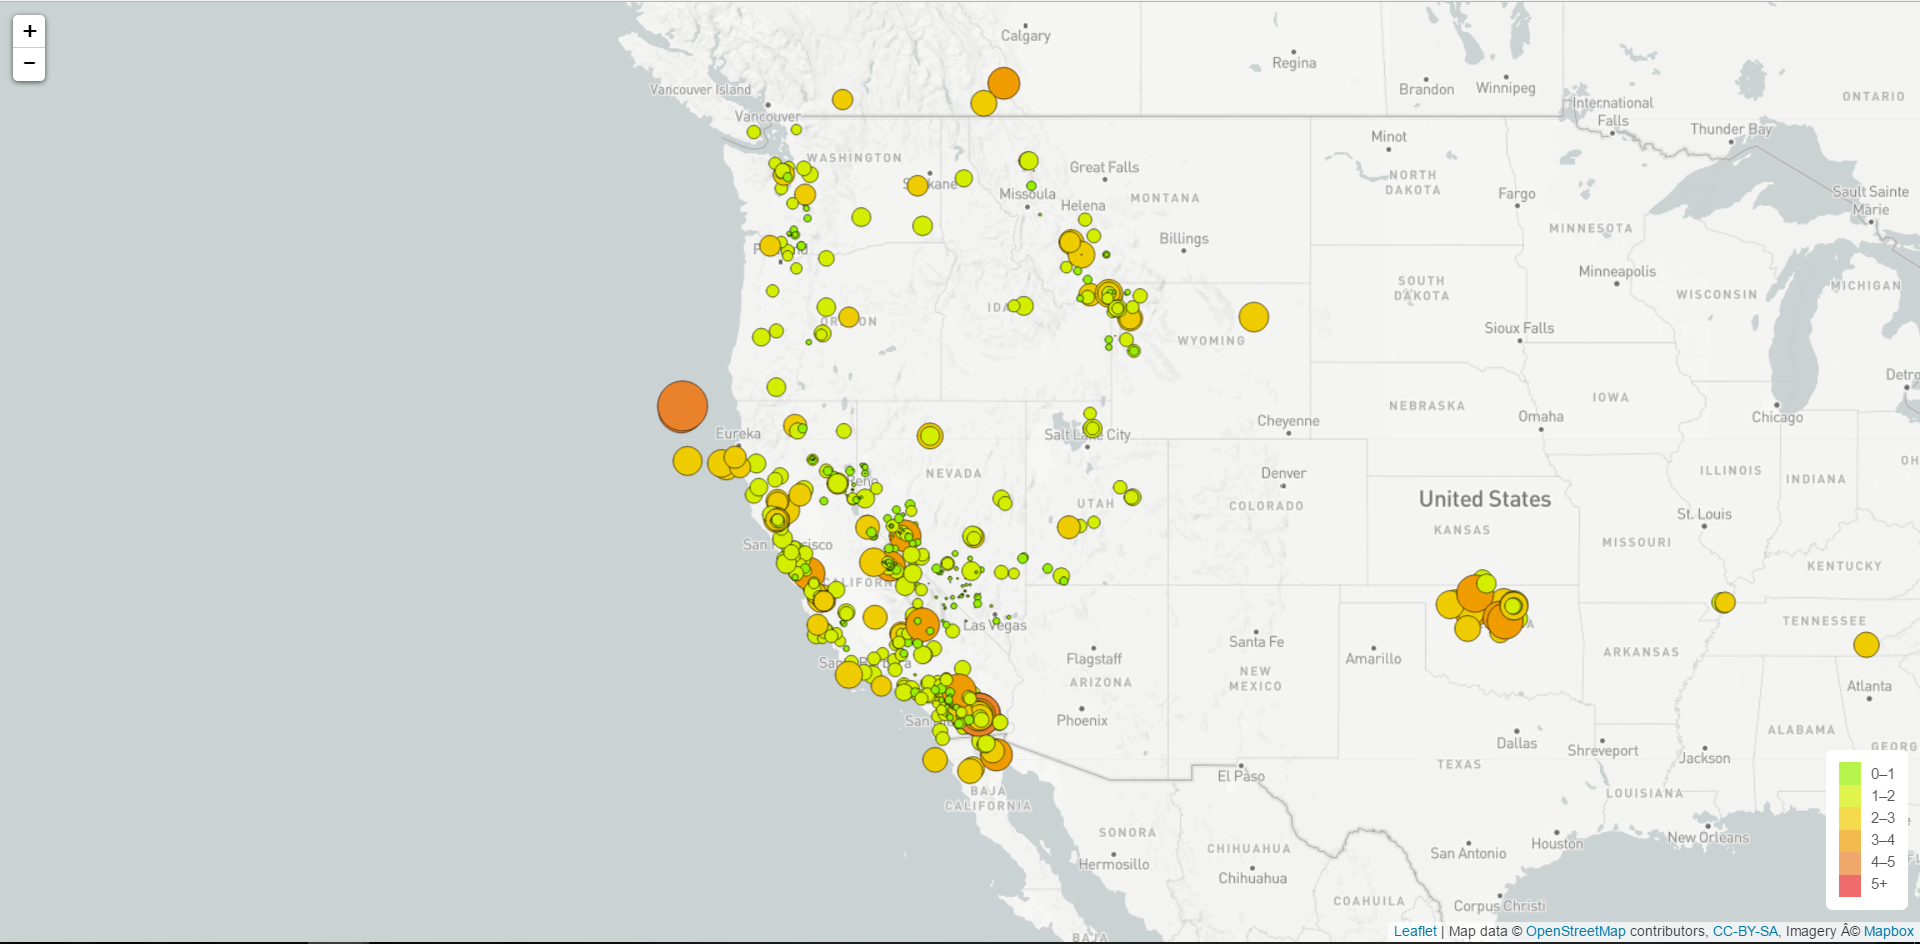

Layout of this report page (visuals, bound fields, positions):
{"tool":"tableau","page":{"name":"Dashboard 1","canvas":[1000,800],"ordinal":0},"visuals":[{"type":"worksheet","title":"Popular stations over the past year","mark":"Automatic","rows":["start station latitude"],"cols":["start station longitude"],"box":[8,8,824,784]},{"type":"legend","title":"Popular stations over the past year","param":"[federated.03d1nfi16vyxix134ivjx1o83i7c].[cnt:Number of Records:qk]","box":[832,8,160,65]},{"type":"legend","title":"Popular stations over the past year","param":"[federated.03d1nfi16vyxix134ivjx1o83i7c].[cnt:Number of Records:qk]","box":[832,73,160,126]},{"type":"currpage","title":"Popular stations over the past year","box":[832,199,160,110]}]}

Visuals, with their boxes on the page's 1000x800 design canvas (x1, y1, x2, y2). These are canvas units, not pixel positions in the 1920x944 screenshot, which may show the page scaled, cropped or inside an application window:
"Popular stations over the past year" worksheet: {"x1": 8, "y1": 8, "x2": 832, "y2": 792}
"Popular stations over the past year" legend: {"x1": 832, "y1": 8, "x2": 992, "y2": 73}
"Popular stations over the past year" legend: {"x1": 832, "y1": 73, "x2": 992, "y2": 199}
"Popular stations over the past year" currpage: {"x1": 832, "y1": 199, "x2": 992, "y2": 309}
